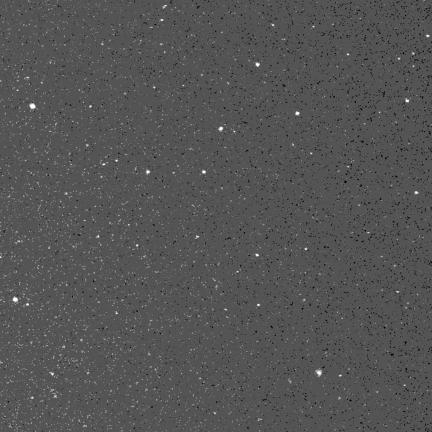blob: (316, 370, 322, 376), (30, 103, 35, 109), (13, 297, 18, 302), (255, 63, 260, 67), (219, 127, 223, 131), (202, 170, 206, 174), (26, 303, 30, 307), (146, 170, 150, 174), (296, 111, 299, 115), (257, 304, 261, 307), (136, 244, 139, 248), (405, 99, 409, 102), (305, 248, 308, 251), (255, 254, 259, 256), (90, 105, 92, 108), (415, 192, 418, 194)
